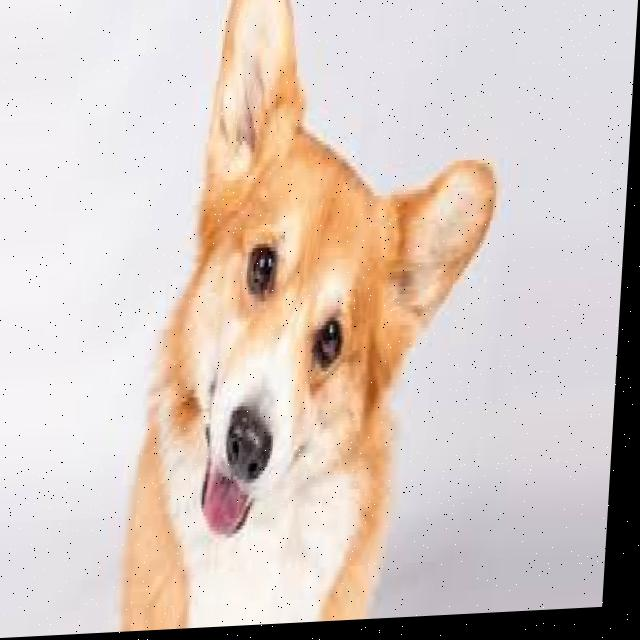CORGI: (120, 0, 505, 634)
